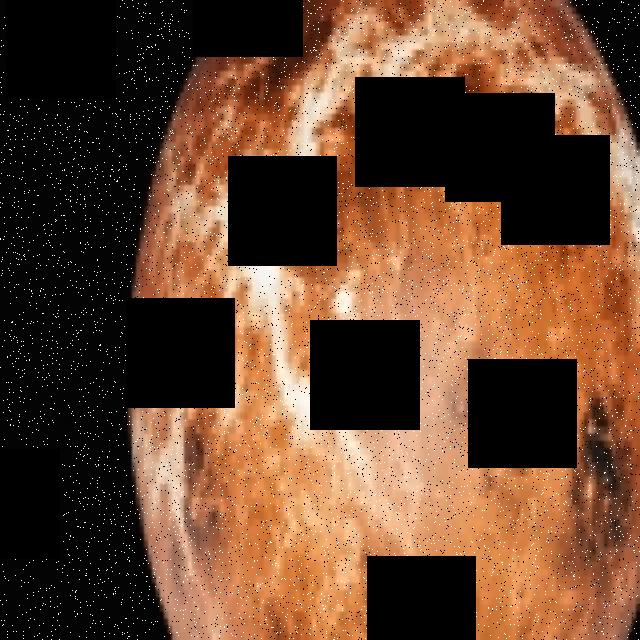Venus: (128, 0, 640, 640)
